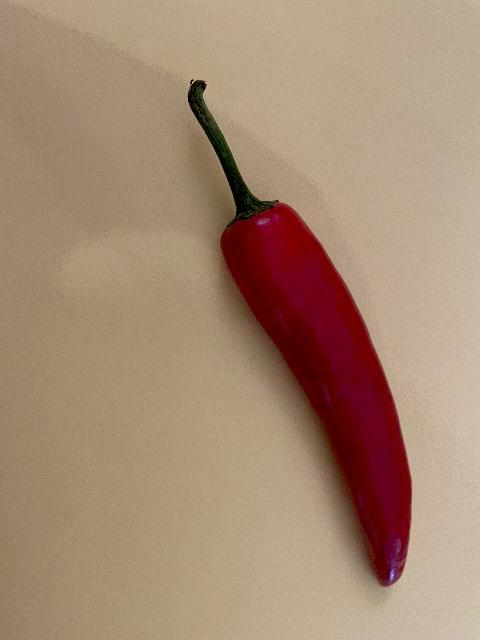chilli: (185, 76, 415, 590)
